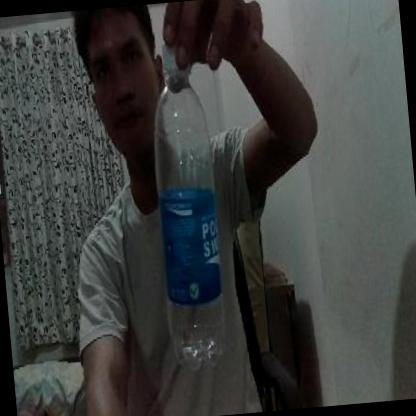plastic_bottles: (145, 42, 231, 371)
